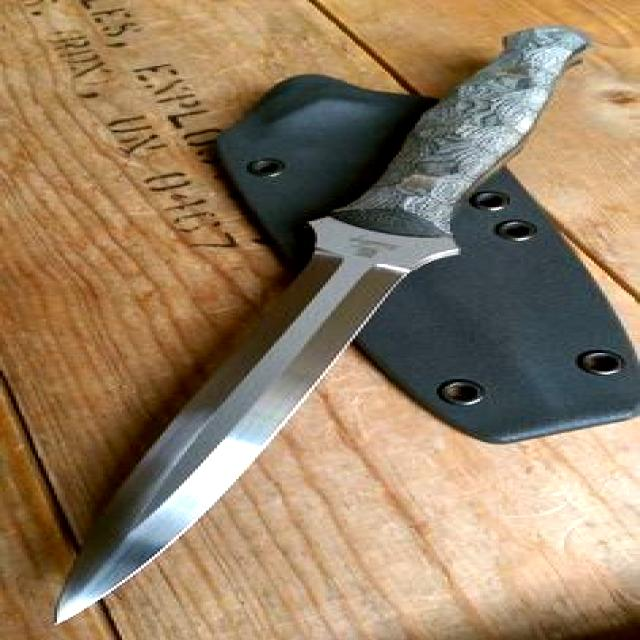short sword: (49, 26, 602, 628)
